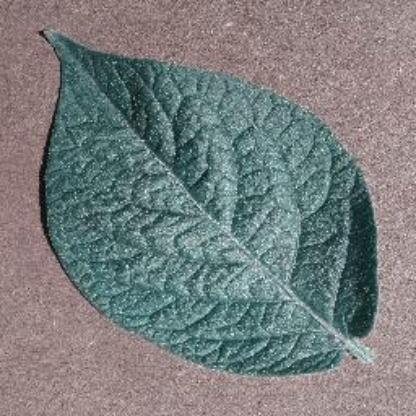Healthy-plant: (30, 27, 382, 379)
